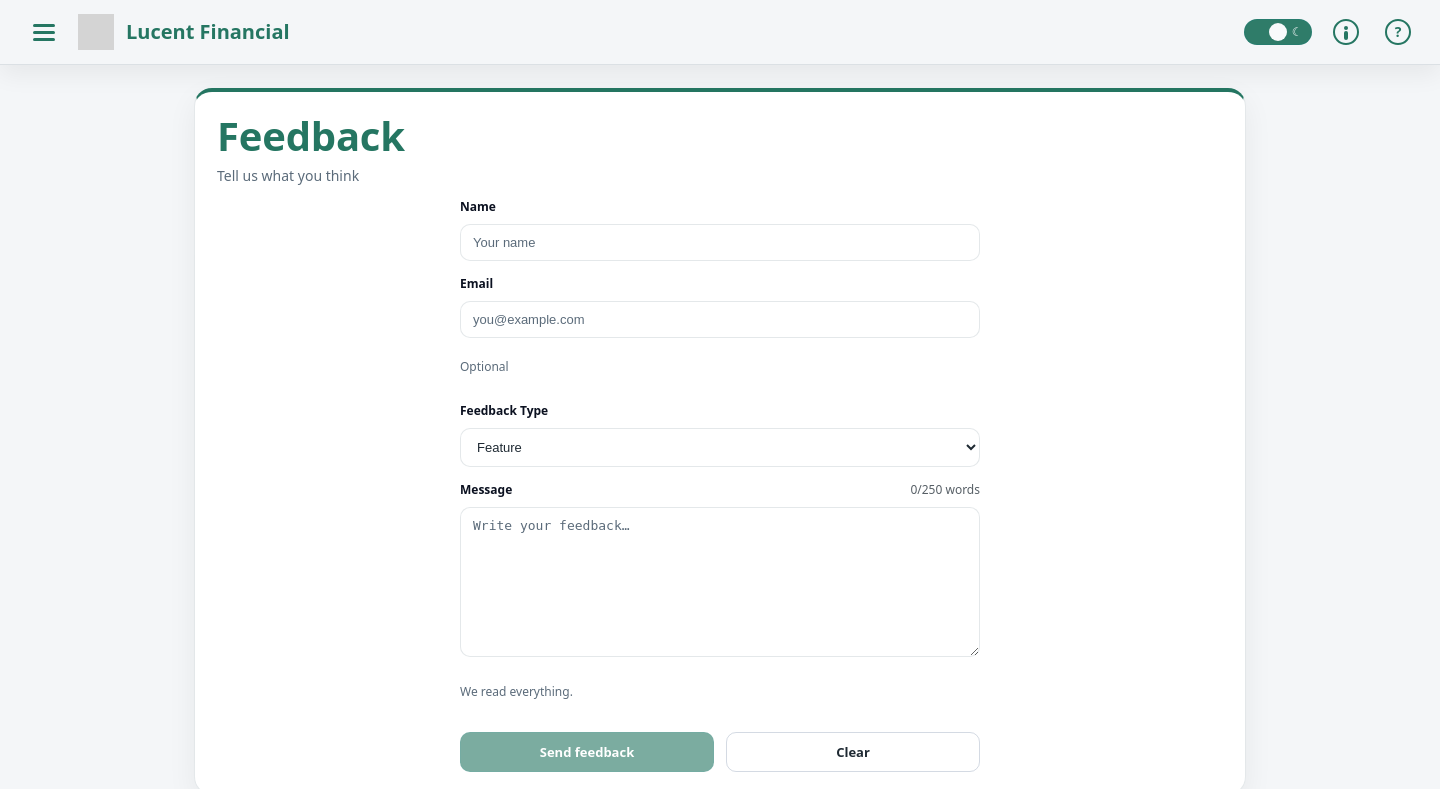
Test case: FeedbackPage › shows server error when submission fails
Step 1. Type "Something broke badly" into the text box labelled "Message" → (720, 582), box [460,507,980,657]
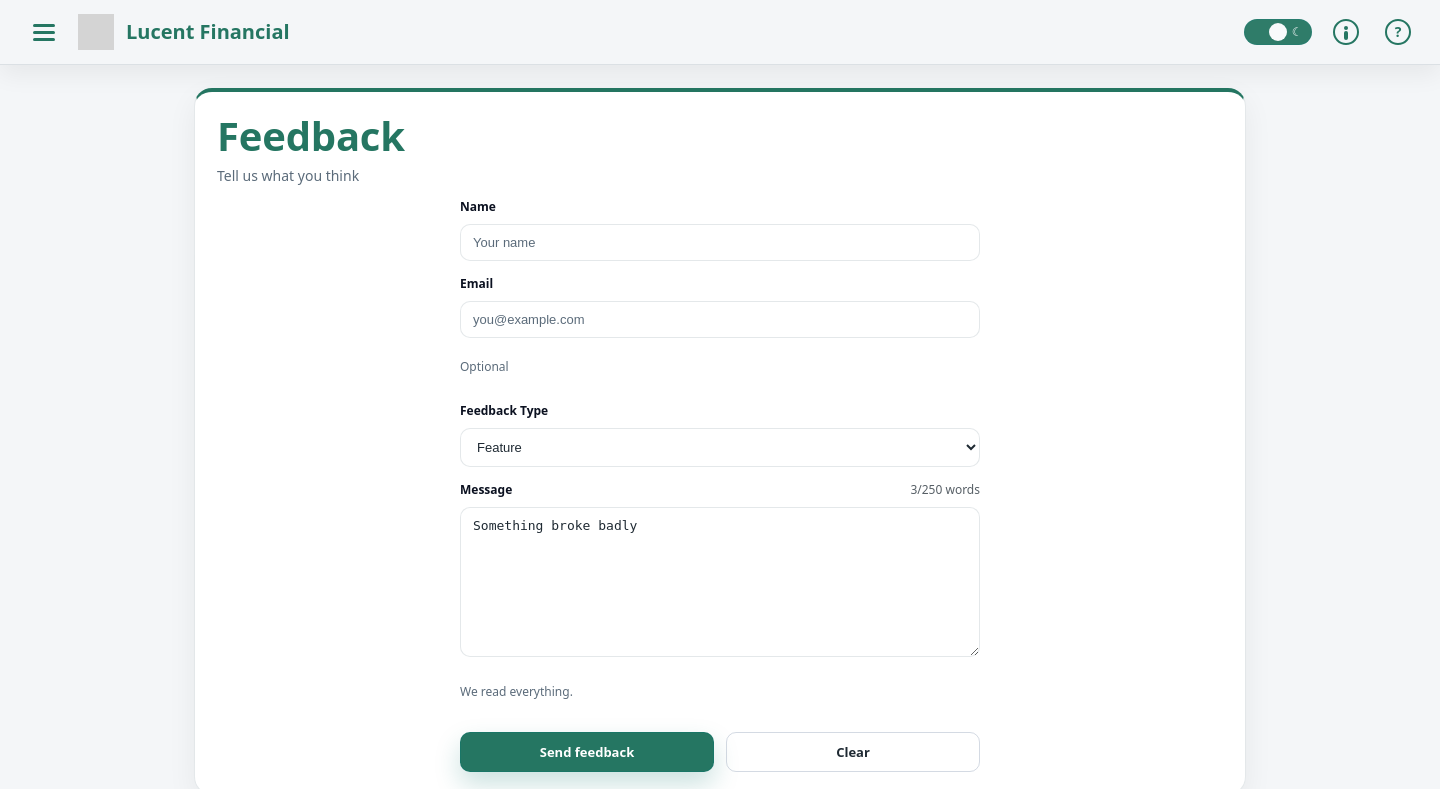
Expected: the button "Send feedback" is enabled
Step 2. Click the button "Send feedback" → (587, 752), box [460,732,714,772]
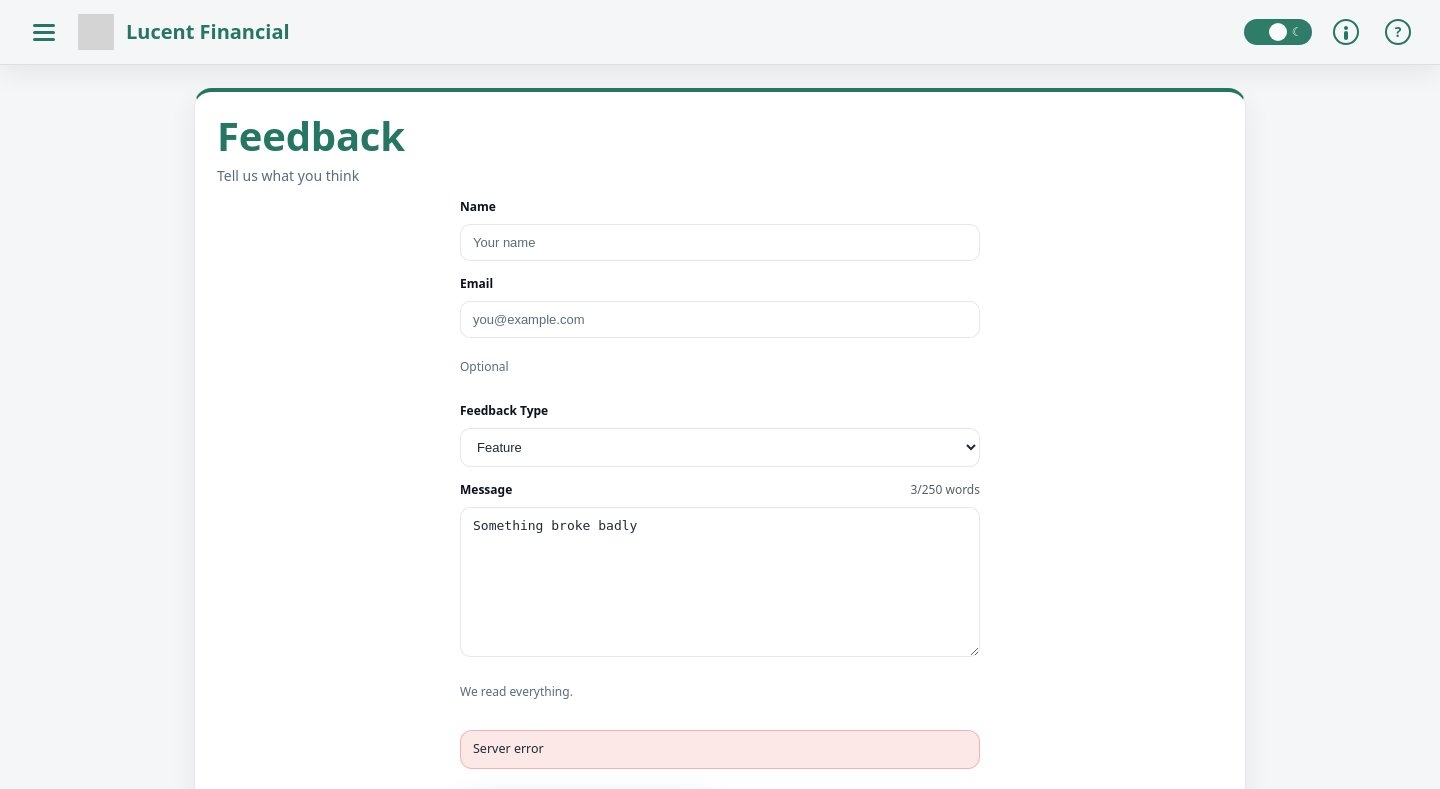
Expected: the text "Server error" is shown, [460,730,980,769]
